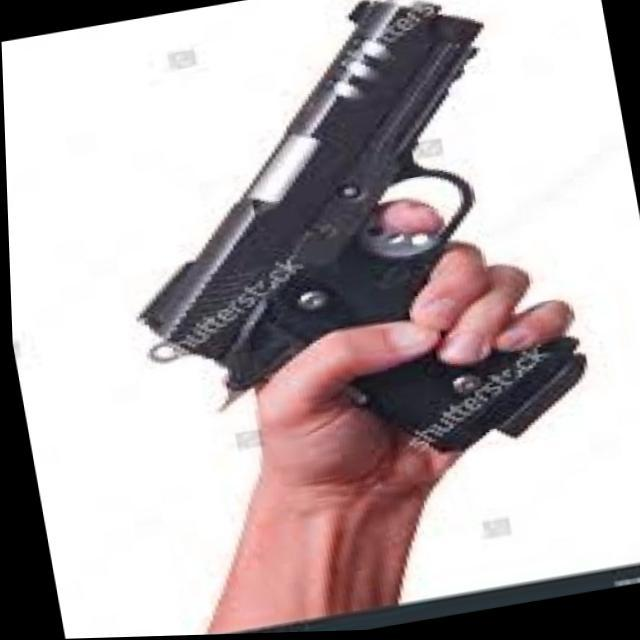weapon: (81, 0, 597, 503)
